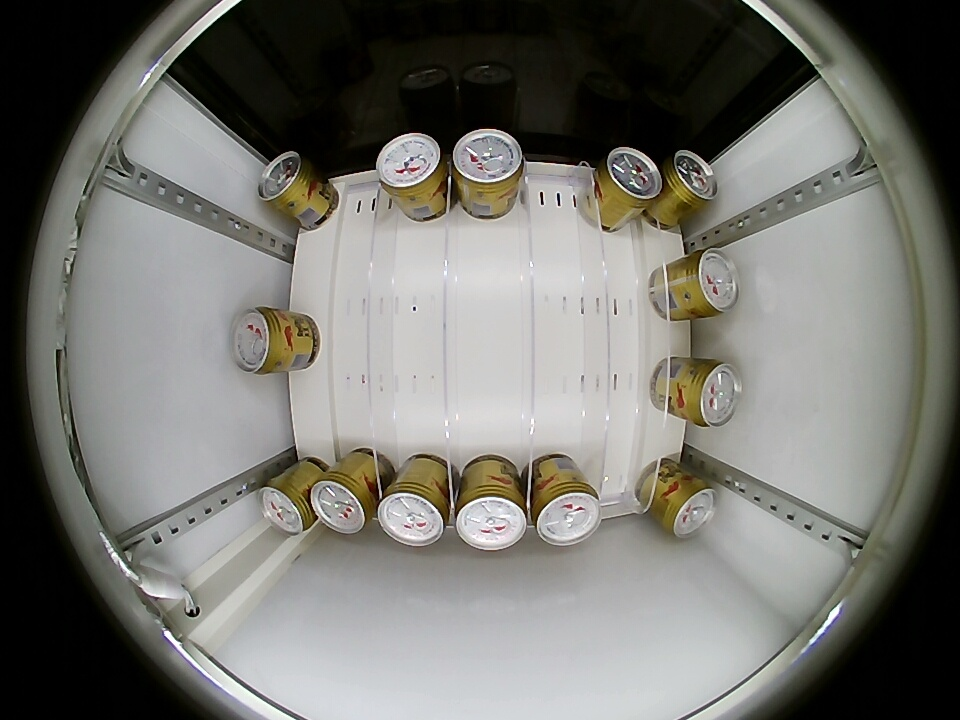hongniu2: (455, 481, 528, 552), (452, 129, 525, 199), (531, 476, 601, 547), (376, 133, 448, 202), (377, 480, 451, 547), (595, 147, 661, 211), (311, 471, 376, 535), (681, 247, 739, 318), (684, 359, 742, 428), (231, 307, 287, 375), (660, 150, 718, 212), (659, 476, 717, 538), (258, 474, 316, 535), (257, 150, 314, 211)
